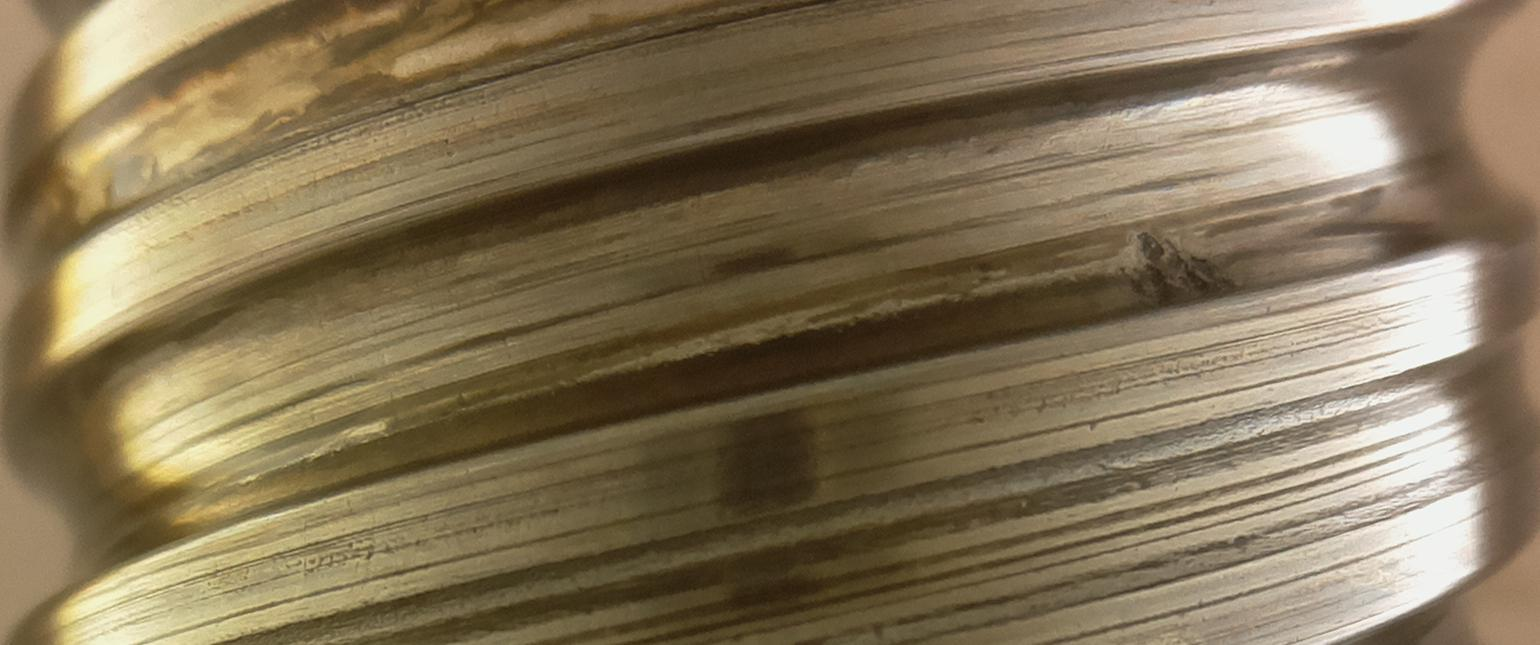pitting: (1120, 232, 1236, 309)
